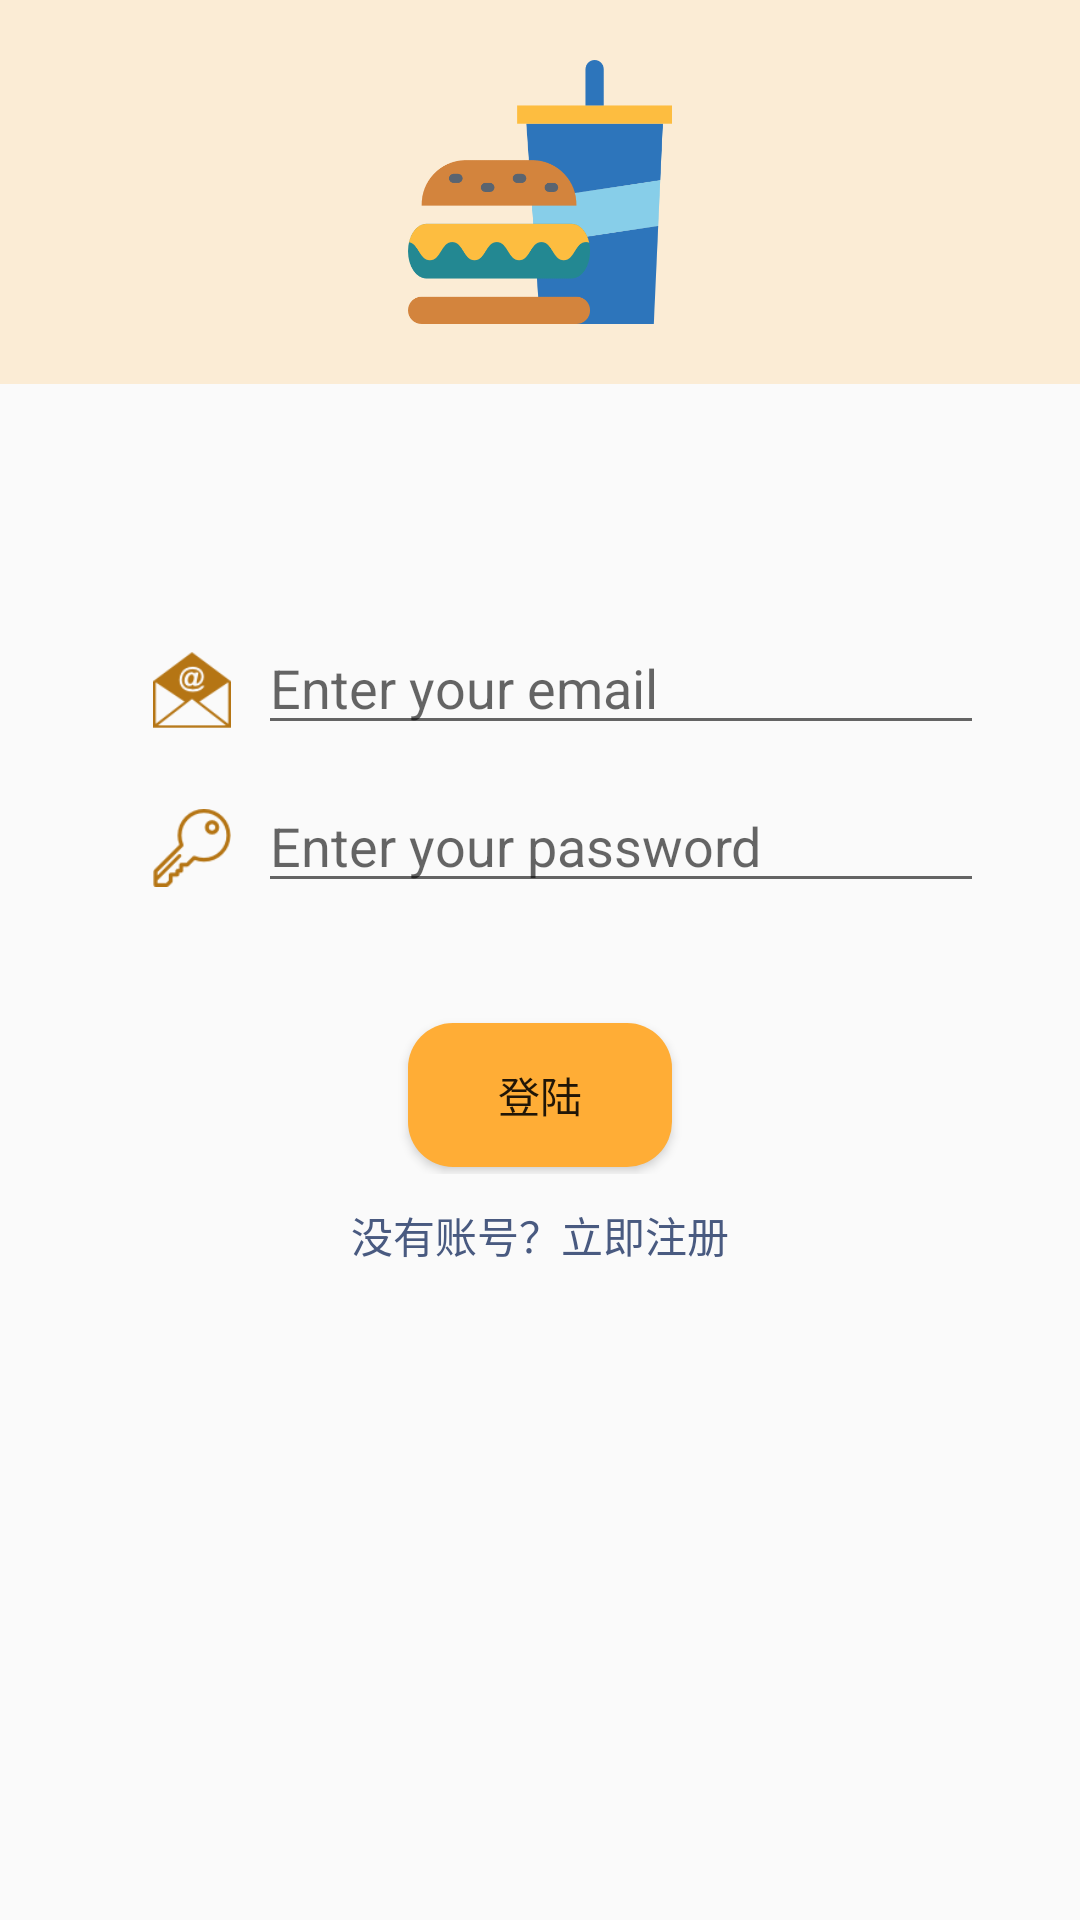

Locate icon controls on the screen. Image size 1080*1920, boxes as (x1, y1, x2, y2).
fastfood: (408, 60, 672, 324)
